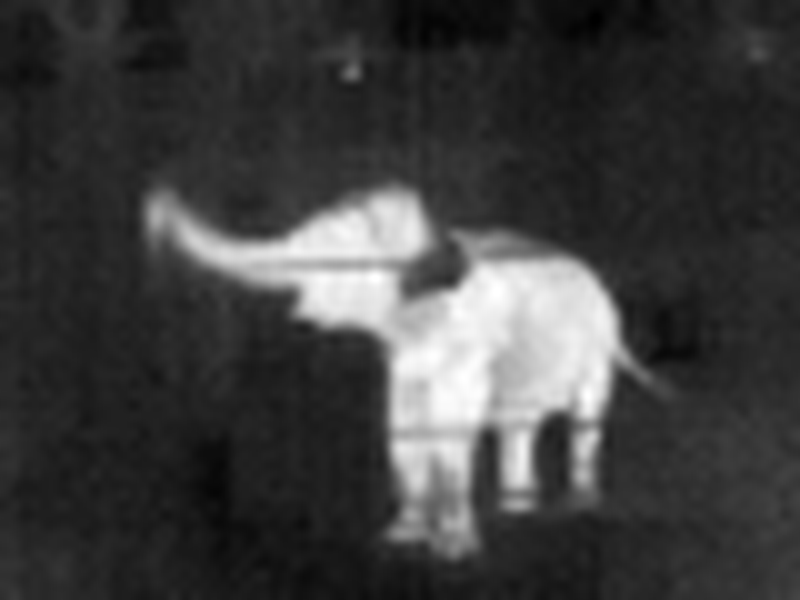elephant: (135, 182, 654, 531)
